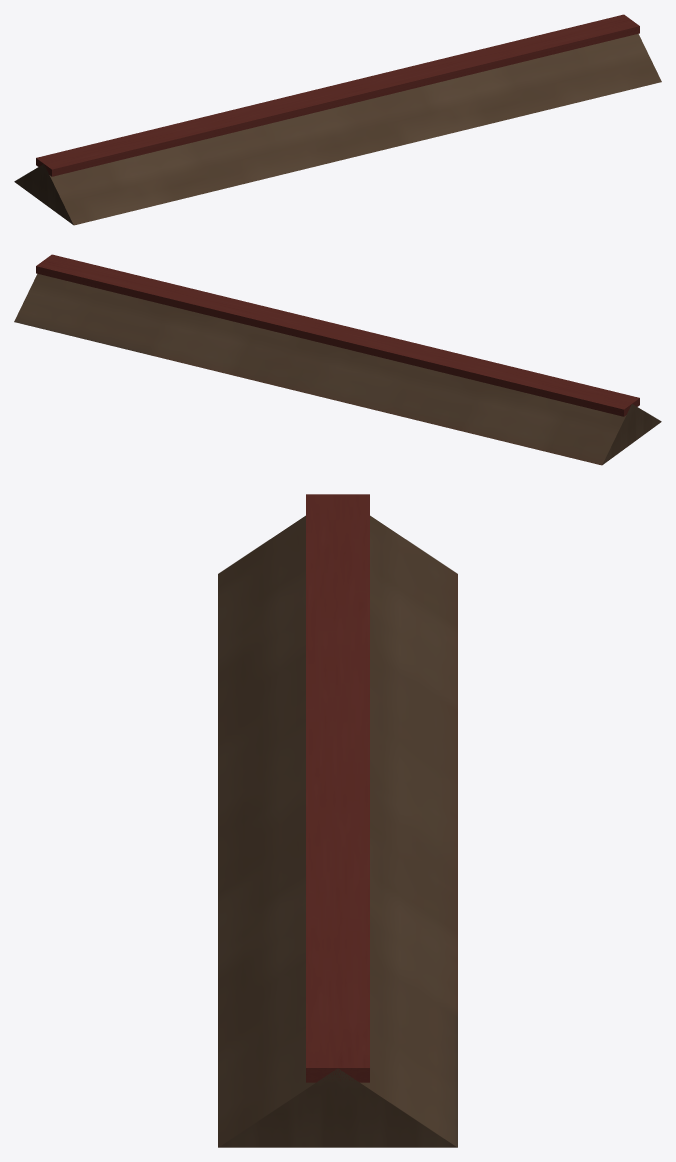
File: house_02_roof_ridge.glb
3 renders of one model, top to bottom at view 1: azimuth 30°, elevation 25°; view 2: azimuth 150°, elevation 25°; view 3: azimuth 270°, elevation 25°, orthographic. The views are drawn at different scales.
Visible parts, largest first — view 1: outdoor_house_02_roof_ridge; view 2: outdoor_house_02_roof_ridge; view 3: outdoor_house_02_roof_ridge.
Part boxes in pixels (x1,y1,x2,y2): outdoor_house_02_roof_ridge: [14, 14, 661, 225]; outdoor_house_02_roof_ridge: [14, 254, 661, 465]; outdoor_house_02_roof_ridge: [218, 494, 457, 1147].
Bounding box in the file's own units: 3.4 × 0.22 × 0.6.
1 material, 1 textured.
